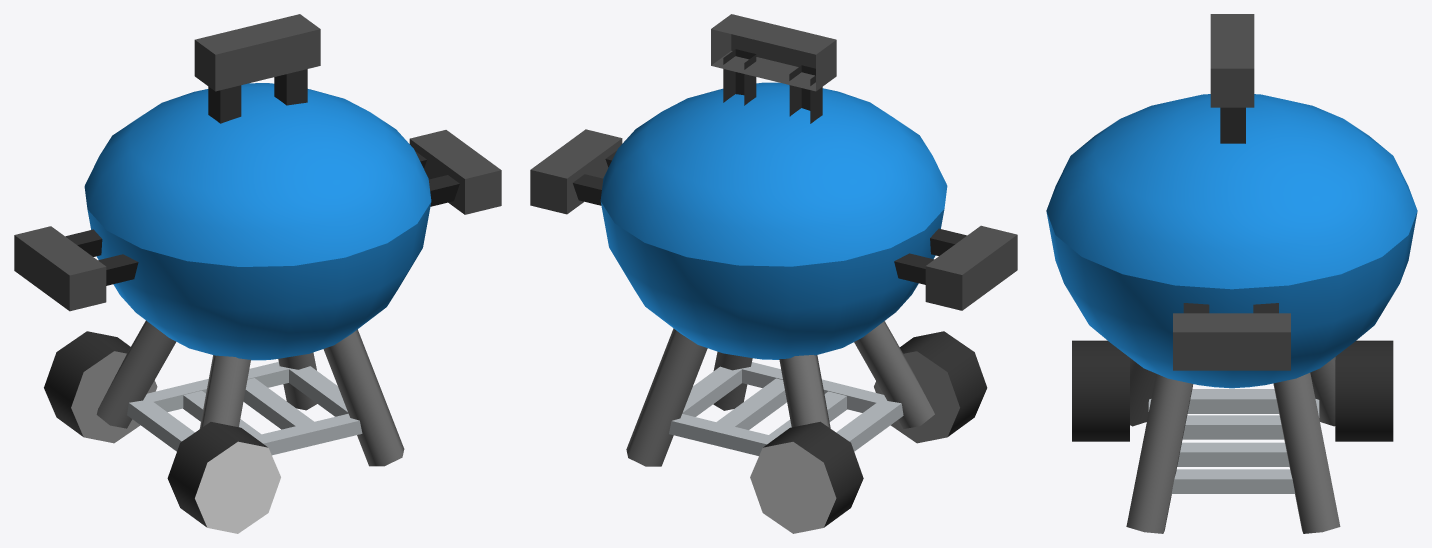
File: bbq_s01.FBX
The picture shows the model from 3 angles, left to right: view 1: azimuth 30°, elevation 25°; view 2: azimuth 150°, elevation 25°; view 3: azimuth 270°, elevation 25°; orthographic projection. The views are drawn at different scales.
Parts seen in each view (by area): view 1: bbq_s01; view 2: bbq_s01; view 3: bbq_s01.
Boxes of the visible parts, x1=… form: bbq_s01: x1=14, y1=14, x2=501, y2=533; bbq_s01: x1=530, y1=14, x2=1017, y2=533; bbq_s01: x1=1046, y1=14, x2=1417, y2=533.
Size of the model in its own units: 187 by 131 by 174.
1 material, 1 textured.
